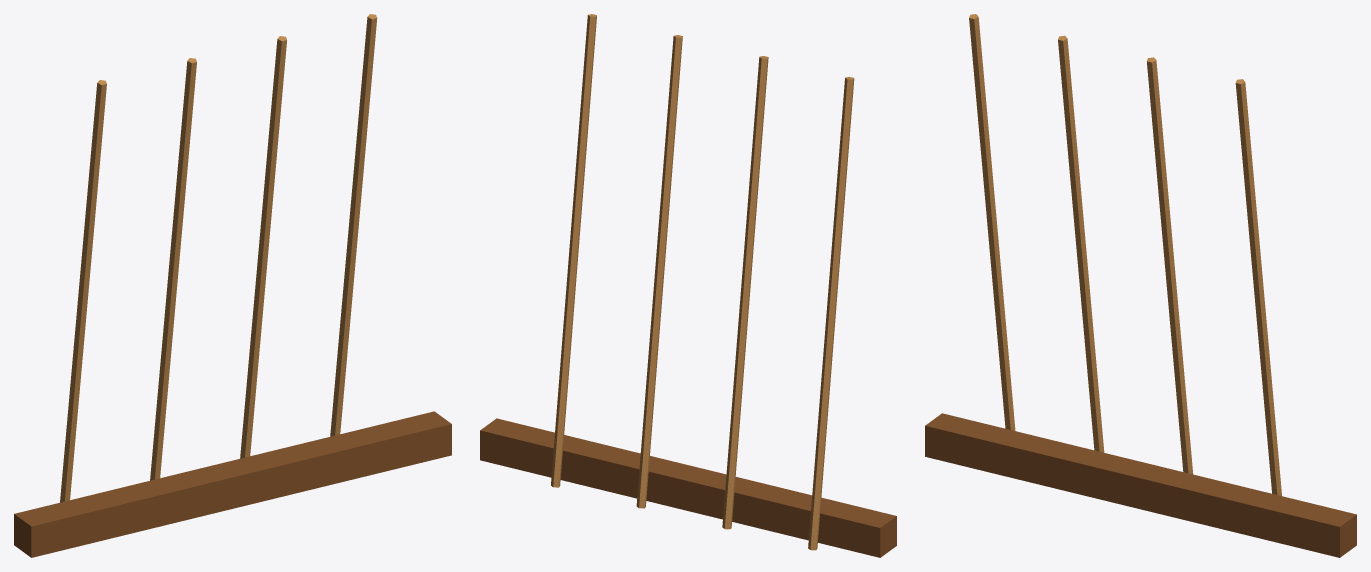
The model's file is fishing_rod_rack.glb.
3 views of the same model, side by side, from view 1: azimuth 30°, elevation 25°; view 2: azimuth 150°, elevation 25°; view 3: azimuth 330°, elevation 25° (orthographic). The views are drawn at different scales.
Parts seen in each view (by area): view 1: fishing_rod_rack; view 2: fishing_rod_rack; view 3: fishing_rod_rack.
Boxes of the visible parts, x1,y1,x2,y2 form: fishing_rod_rack: (14, 14, 451, 557); fishing_rod_rack: (480, 14, 896, 557); fishing_rod_rack: (925, 14, 1356, 557).
Size of the model in its own units: 1.4 by 1.49 by 0.251.
